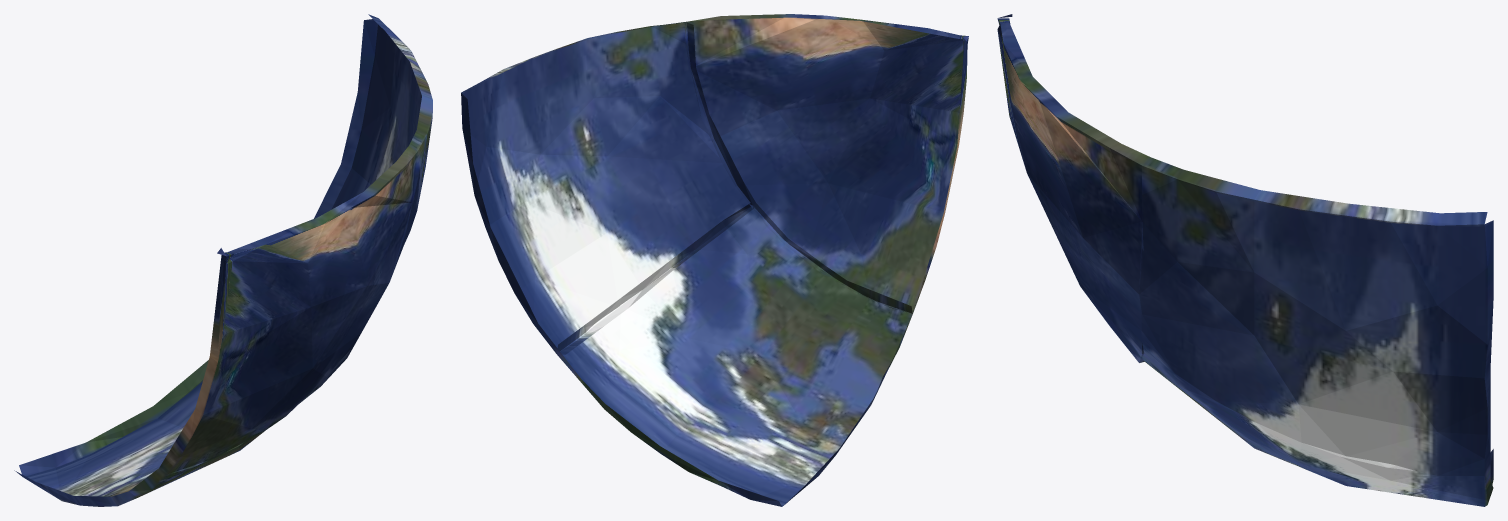
File: test_tile.glb
The picture shows the model from 3 angles, left to right: view 1: azimuth 30°, elevation 25°; view 2: azimuth 150°, elevation 25°; view 3: azimuth 270°, elevation 25°; orthographic projection. The views are drawn at different scales.
Size of the model in its own units: 6520592 by 6481902 by 6499872.
1 material, 1 textured.
